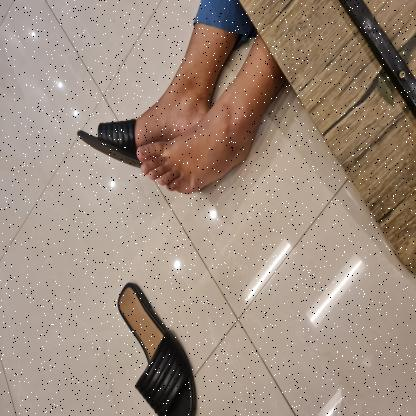leg: (133, 29, 289, 205), (70, 23, 239, 171)
